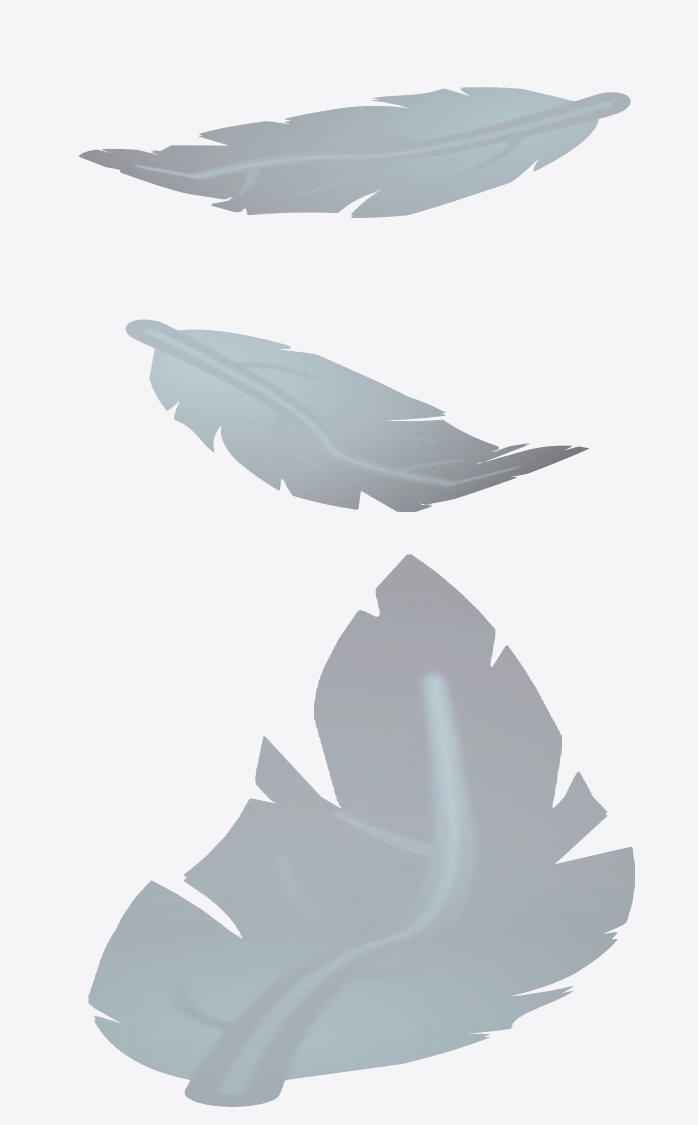
The model's file is FeatherDrop.fbx.
3 views of the same model, one above another, from view 1: azimuth 30°, elevation 25°; view 2: azimuth 150°, elevation 25°; view 3: azimuth 270°, elevation 25° (orthographic). The views are drawn at different scales.
Parts seen in each view (by area): view 1: Feather; view 2: Feather; view 3: Feather.
Part boxes in pixels (x1,y1,x2,y2): Feather: (78, 87, 630, 217); Feather: (125, 319, 588, 511); Feather: (88, 554, 634, 1106).
Bounding box in the file's own units: 1.05 × 0.1326 × 0.574.
